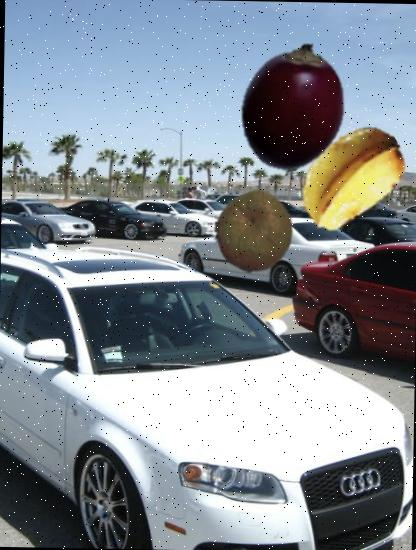Carambula: (291, 116, 410, 236)
Mandarine: (210, 188, 296, 274)
Tamarillo: (227, 42, 358, 172)
